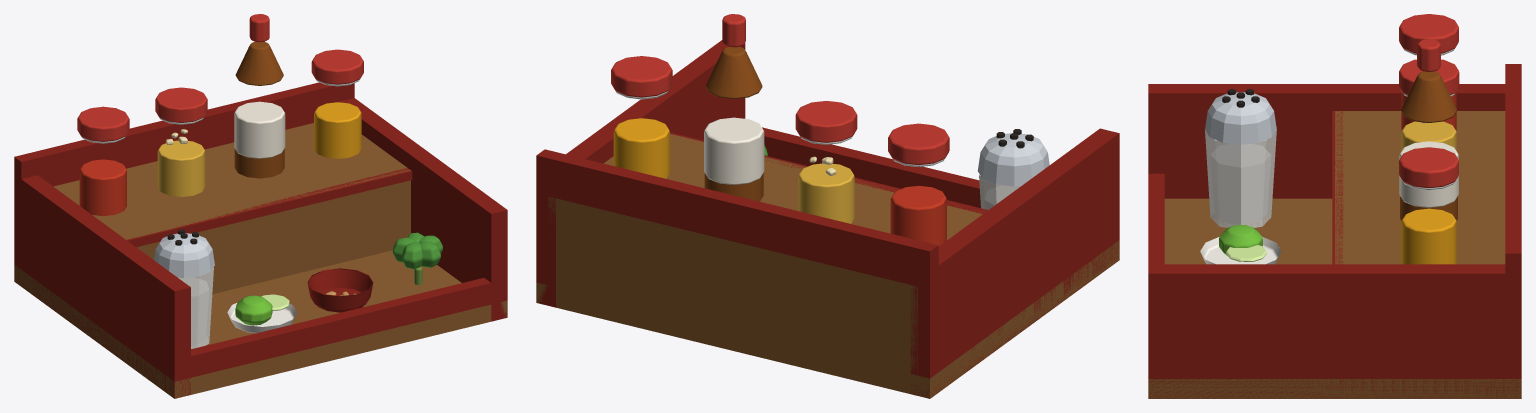
Rendered from BurmeseSpiceRack.glb.
3 renders of one model, left to right at view 1: azimuth 30°, elevation 25°; view 2: azimuth 150°, elevation 25°; view 3: azimuth 270°, elevation 25°, orthographic. The views are drawn at different scales.
Visible parts, largest first — view 1: BurmeseSpiceRack_Base, BurmeseSpiceRack_FishSauce, BurmeseSpiceRack_GarlicOil, BurmeseSpiceRack_Turmeric, BurmeseSpiceRack_Chili, BurmeseSpiceRack_Salt, BurmeseSpiceRack_Peanuts, BurmeseSpiceRack_Lime, BurmeseSpiceRack_Coriander; view 2: BurmeseSpiceRack_Base, BurmeseSpiceRack_FishSauce, BurmeseSpiceRack_GarlicOil, BurmeseSpiceRack_Turmeric, BurmeseSpiceRack_Chili, BurmeseSpiceRack_Salt; view 3: BurmeseSpiceRack_Base, BurmeseSpiceRack_Salt, BurmeseSpiceRack_Turmeric, BurmeseSpiceRack_FishSauce, BurmeseSpiceRack_Lime, BurmeseSpiceRack_GarlicOil, BurmeseSpiceRack_Chili.
Boxes of the visible parts, x1,y1,x2,y2 form: BurmeseSpiceRack_Base: (14, 82, 507, 398); BurmeseSpiceRack_FishSauce: (234, 14, 285, 178); BurmeseSpiceRack_GarlicOil: (155, 87, 207, 196); BurmeseSpiceRack_Turmeric: (311, 49, 363, 158); BurmeseSpiceRack_Chili: (77, 106, 129, 216); BurmeseSpiceRack_Salt: (154, 229, 214, 348); BurmeseSpiceRack_Peanuts: (307, 268, 373, 312); BurmeseSpiceRack_Lime: (227, 294, 296, 333); BurmeseSpiceRack_Coriander: (392, 232, 442, 284); BurmeseSpiceRack_Base: (536, 40, 1119, 398); BurmeseSpiceRack_FishSauce: (704, 14, 764, 201); BurmeseSpiceRack_GarlicOil: (795, 101, 857, 223); BurmeseSpiceRack_Turmeric: (611, 56, 672, 178); BurmeseSpiceRack_Chili: (888, 123, 949, 246); BurmeseSpiceRack_Salt: (977, 129, 1049, 209); BurmeseSpiceRack_Base: (1148, 64, 1521, 398); BurmeseSpiceRack_Salt: (1205, 89, 1276, 227); BurmeseSpiceRack_Turmeric: (1399, 147, 1458, 264); BurmeseSpiceRack_FishSauce: (1399, 39, 1458, 220); BurmeseSpiceRack_Lime: (1200, 225, 1281, 264); BurmeseSpiceRack_GarlicOil: (1399, 59, 1459, 150); BurmeseSpiceRack_Chili: (1399, 14, 1458, 130).
Bounding box in the file's own units: 0.324 × 0.226 × 0.27.
